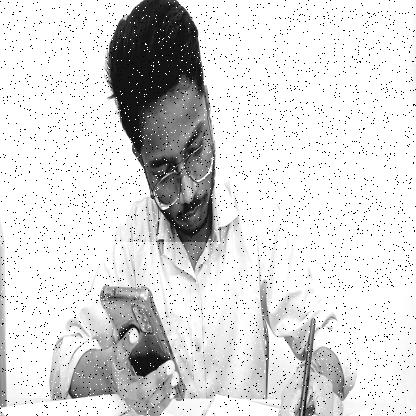Distracted: (107, 0, 221, 242)
